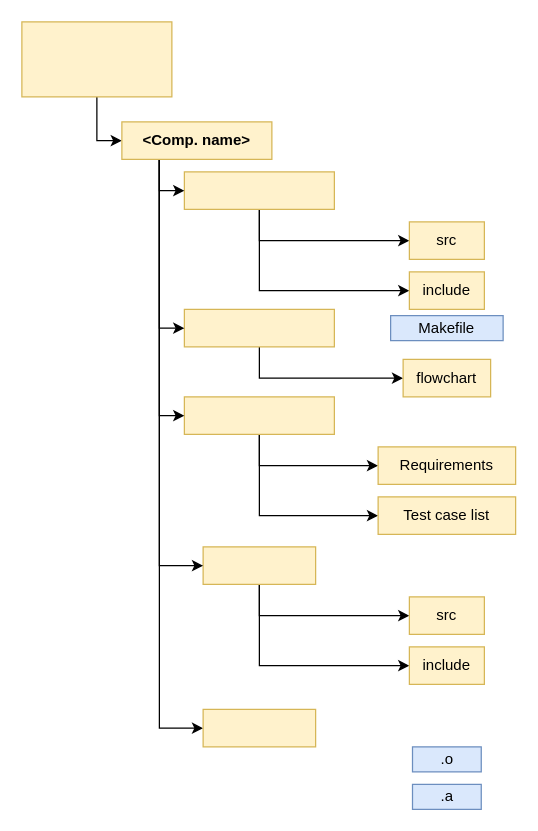
This 538x831 diagram has some shape labels left out. Here are the shapes that lost their labels. From the top down, the centre of each, then its label:
At point 96,59: "Components".
At point 258,190: "Source".
At point 258,327: "Design".
At point 258,415: "Documentation".
At point 259,565: "Tests".
At point 259,727: "Bin".
